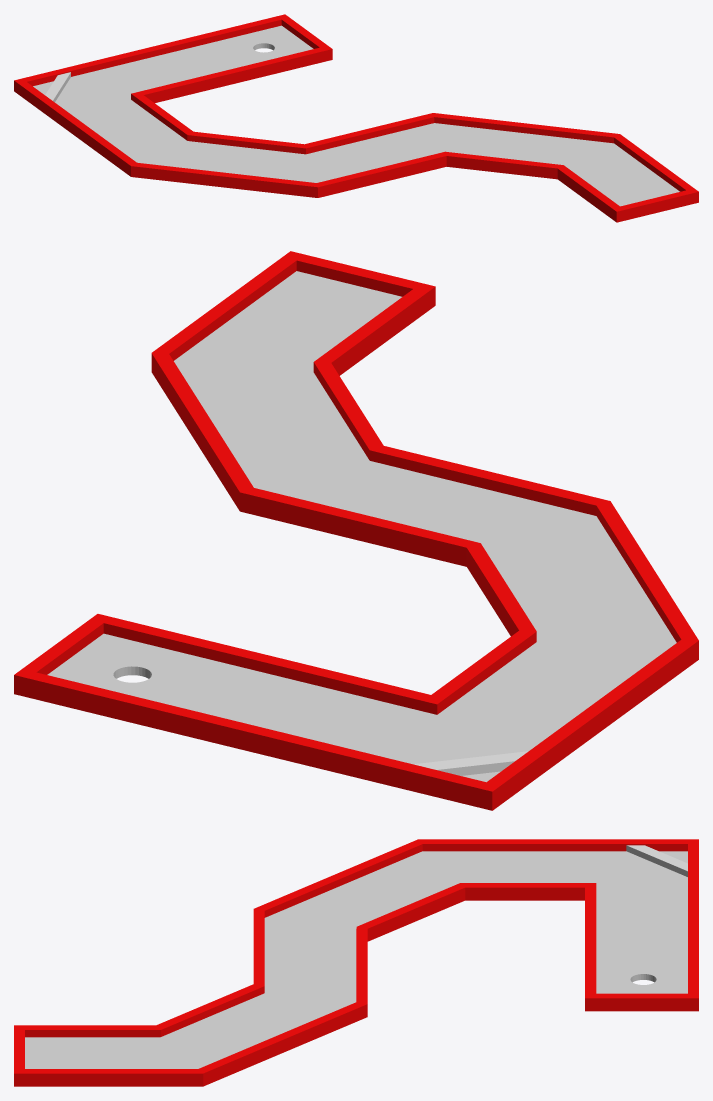
Rendered from BahnM8.fbx.
3 views of the same model, one above another, from view 1: azimuth 30°, elevation 25°; view 2: azimuth 150°, elevation 25°; view 3: azimuth 270°, elevation 25° (orthographic). The views are drawn at different scales.
Visible parts, largest first — view 1: Track8; view 2: Track8; view 3: Track8.
Boxes of the visible parts, x1,y1,x2,y2 form: Track8: (14, 14, 698, 222); Track8: (14, 251, 698, 810); Track8: (14, 839, 698, 1086).
Size of the model in its own units: 423 by 11 by 523.
